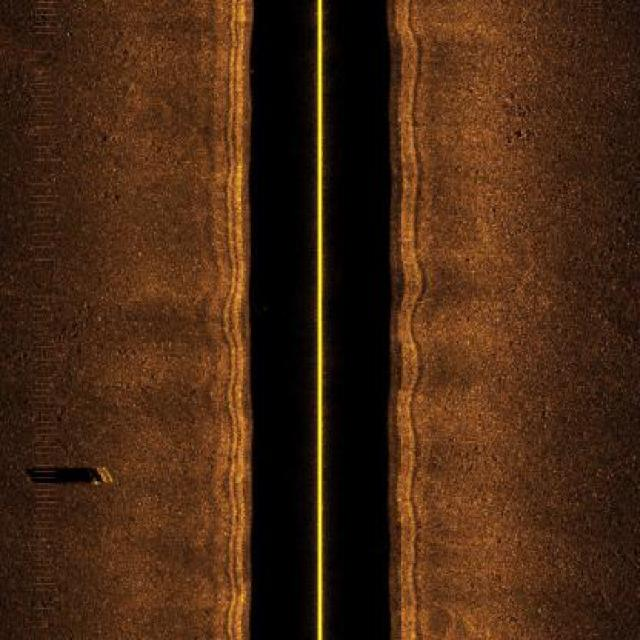other: (22, 462, 118, 490)
